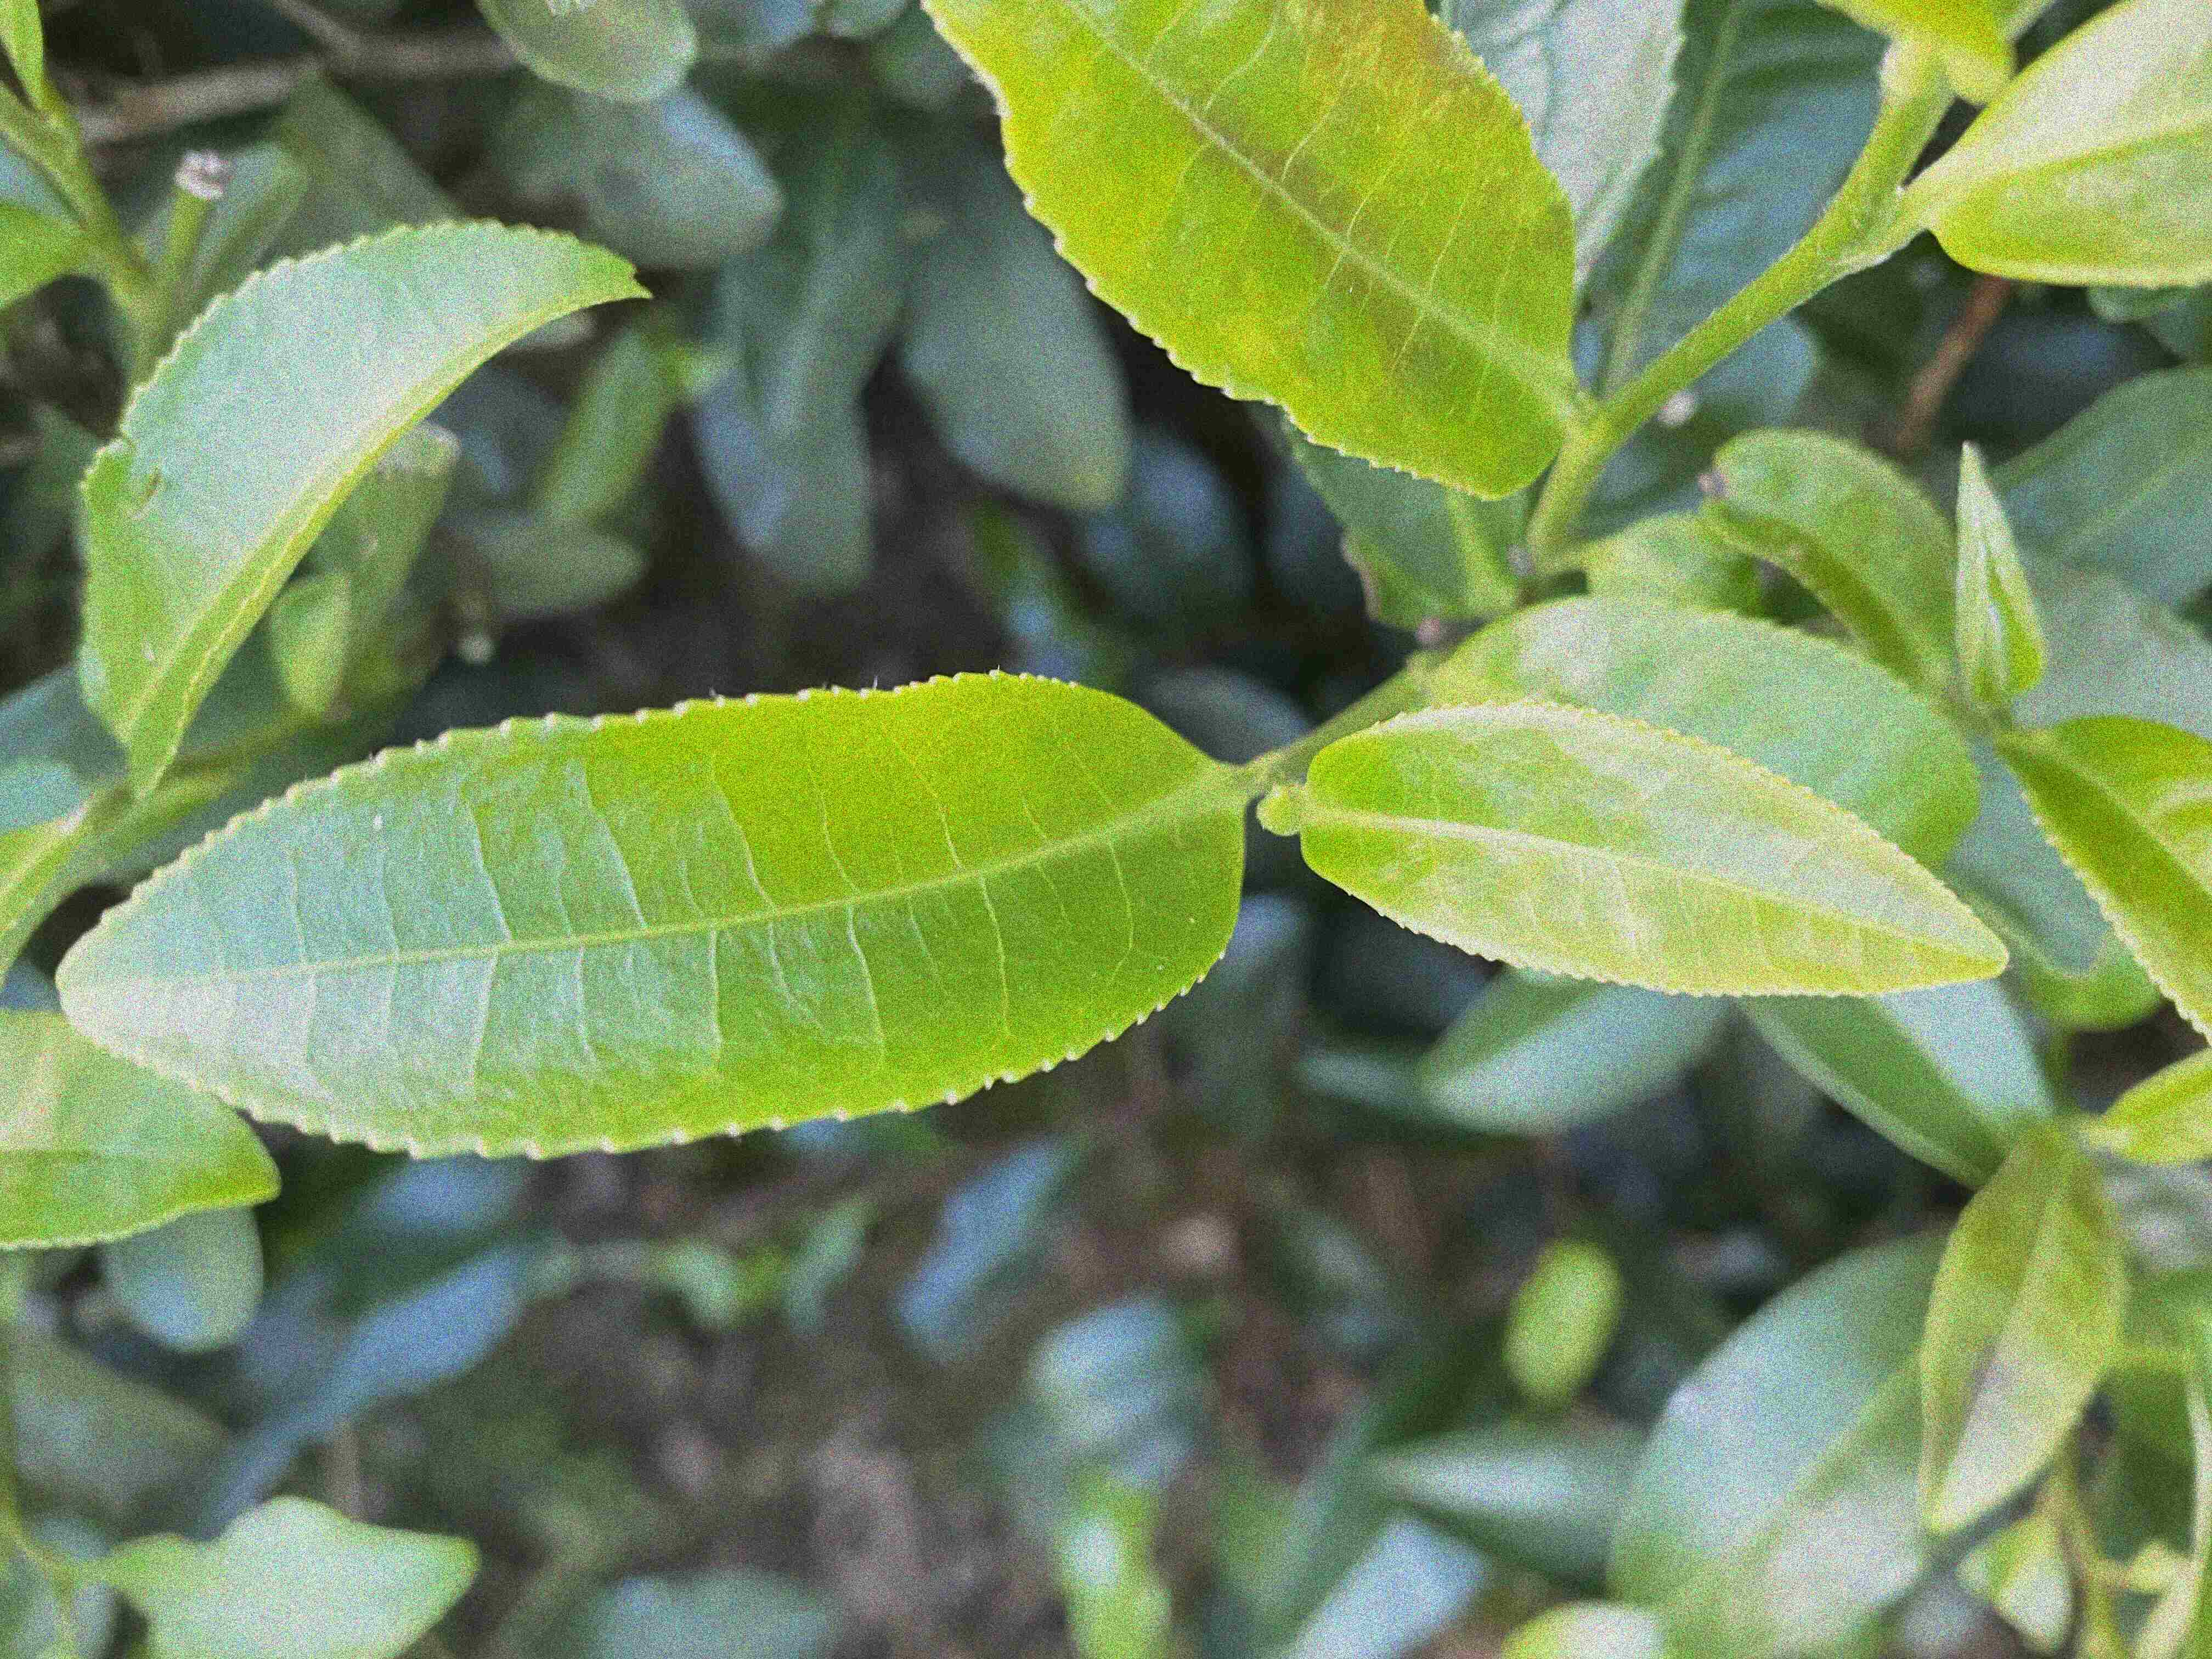chihuo_low: (68, 216, 655, 802)
healthy: (54, 666, 1251, 1162), (1298, 699, 2013, 1002)
tanju_low: (918, 0, 1575, 505)
